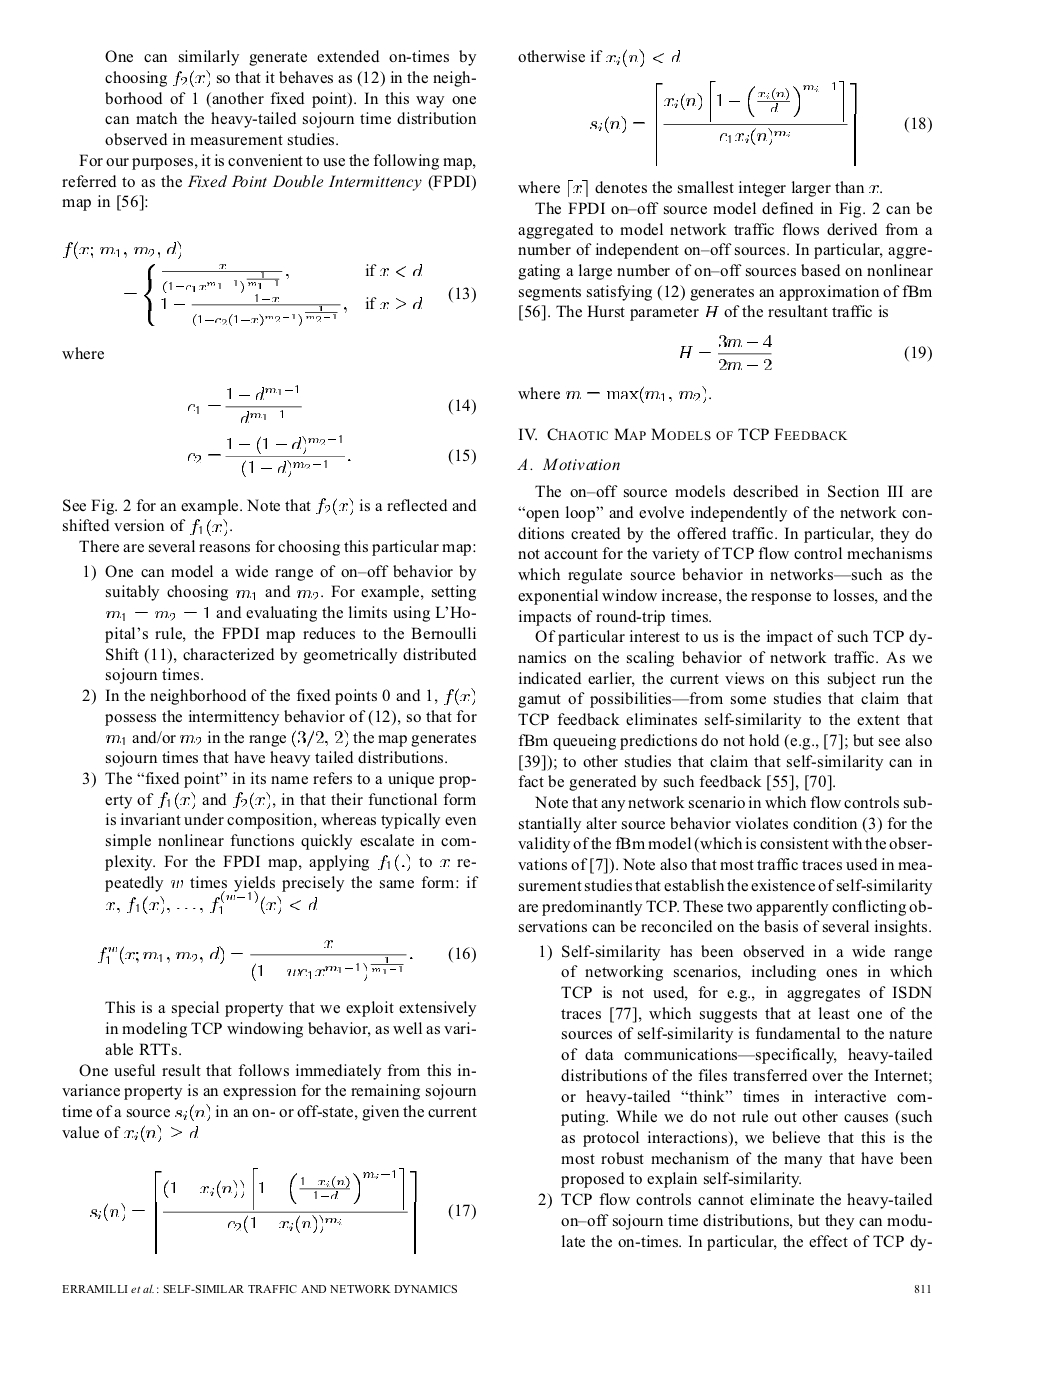formula: (90, 1167, 475, 1254), (590, 80, 931, 166), (124, 262, 475, 327), (98, 939, 475, 981), (188, 434, 475, 477), (188, 384, 475, 423), (680, 334, 931, 370), (64, 240, 181, 259)
